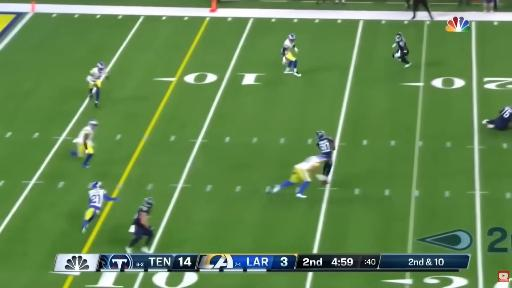Helmet: (143, 197, 155, 208), (315, 130, 328, 140), (318, 155, 326, 166), (396, 32, 404, 42), (93, 182, 102, 190), (90, 121, 98, 129), (98, 62, 104, 72), (290, 34, 297, 42)
Jersey: (295, 156, 324, 170), (133, 206, 150, 227), (317, 137, 334, 157), (495, 107, 511, 128), (89, 189, 105, 210), (74, 126, 93, 143), (87, 68, 106, 84), (396, 39, 409, 55), (90, 68, 106, 81), (282, 39, 295, 55)
Player: (273, 155, 327, 198), (82, 182, 118, 233), (126, 198, 153, 253), (71, 120, 98, 167), (316, 131, 335, 184), (87, 62, 106, 107), (282, 34, 301, 76), (392, 33, 411, 67), (483, 107, 511, 130)
